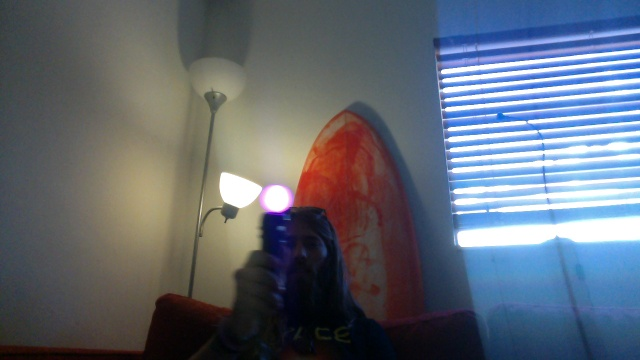wand: (261, 186, 292, 212)
